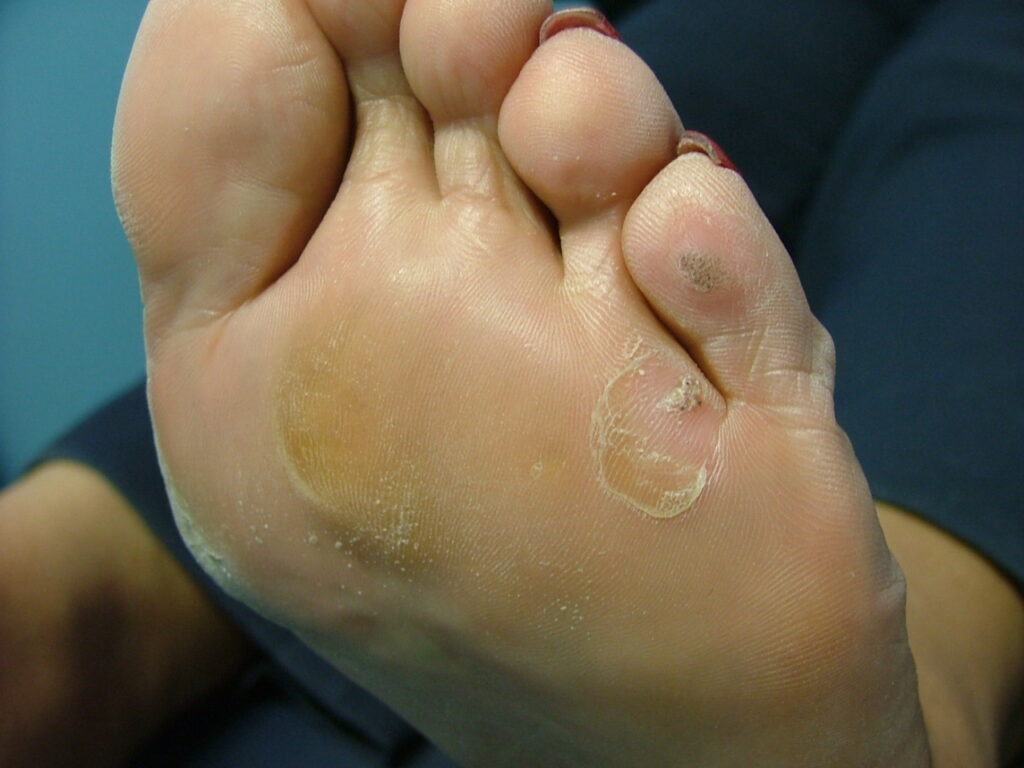Warts: (579, 379, 747, 528), (653, 232, 749, 310)
